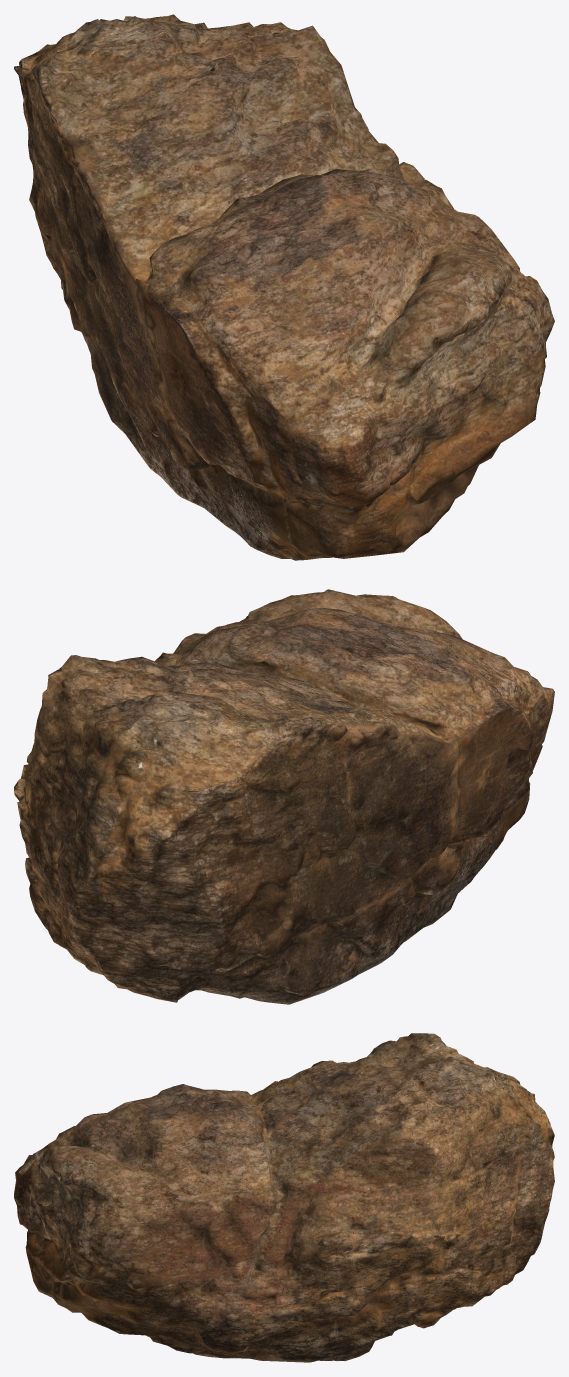
Rendered from namaqualand_boulder_06.glb.
3 renders of one model, top to bottom at view 1: azimuth 30°, elevation 25°; view 2: azimuth 150°, elevation 25°; view 3: azimuth 270°, elevation 25°, orthographic. The views are drawn at different scales.
Parts seen in each view (by area): view 1: namaqualand_boulder_06; view 2: namaqualand_boulder_06; view 3: namaqualand_boulder_06.
Boxes of the visible parts, box(x1,y1,x2,y2) form: namaqualand_boulder_06: box(14, 14, 554, 560); namaqualand_boulder_06: box(14, 589, 554, 1004); namaqualand_boulder_06: box(14, 1033, 554, 1362).
Bounding box in the file's own units: 0.6736 × 0.6483 × 1.21.
Materials: 1 (1 with a texture image).
